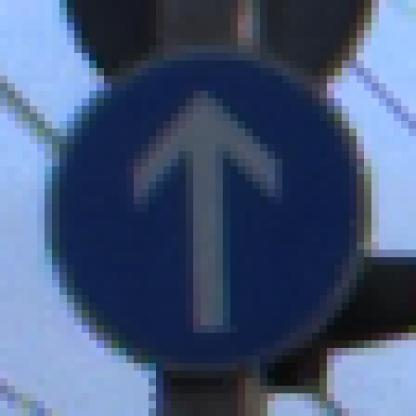AheadOnly: (38, 39, 380, 379)
